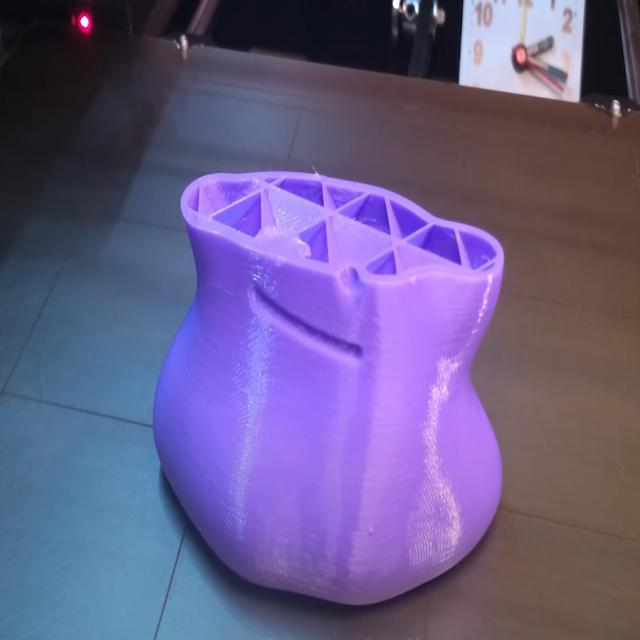Without deffect: (148, 132, 520, 630)
